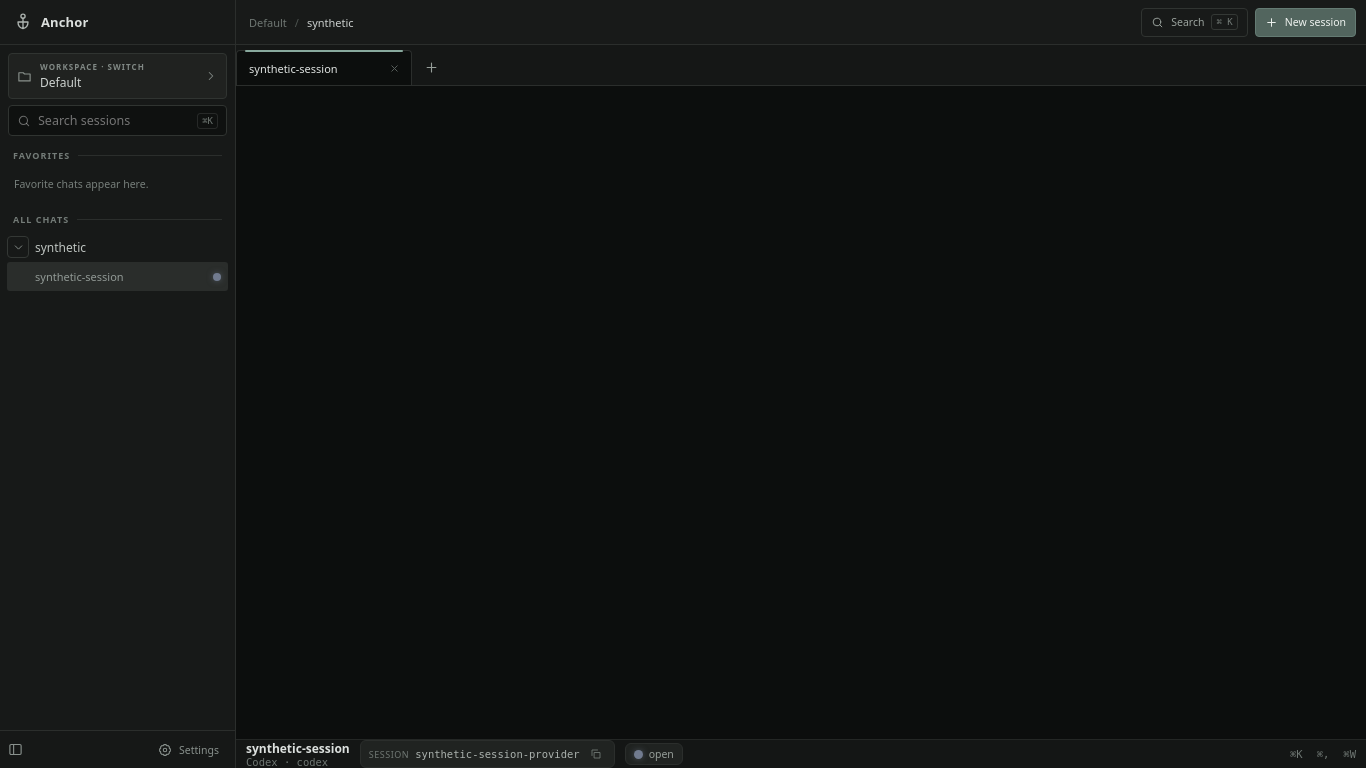
Test case: confirmClose › asks before closing an in-progress AI response and sends nothing until answered
The width and height of the screenshot is (1366, 768).
Click the button named "Close tab" at (394,68), box left=383, top=56, right=406, bottom=80
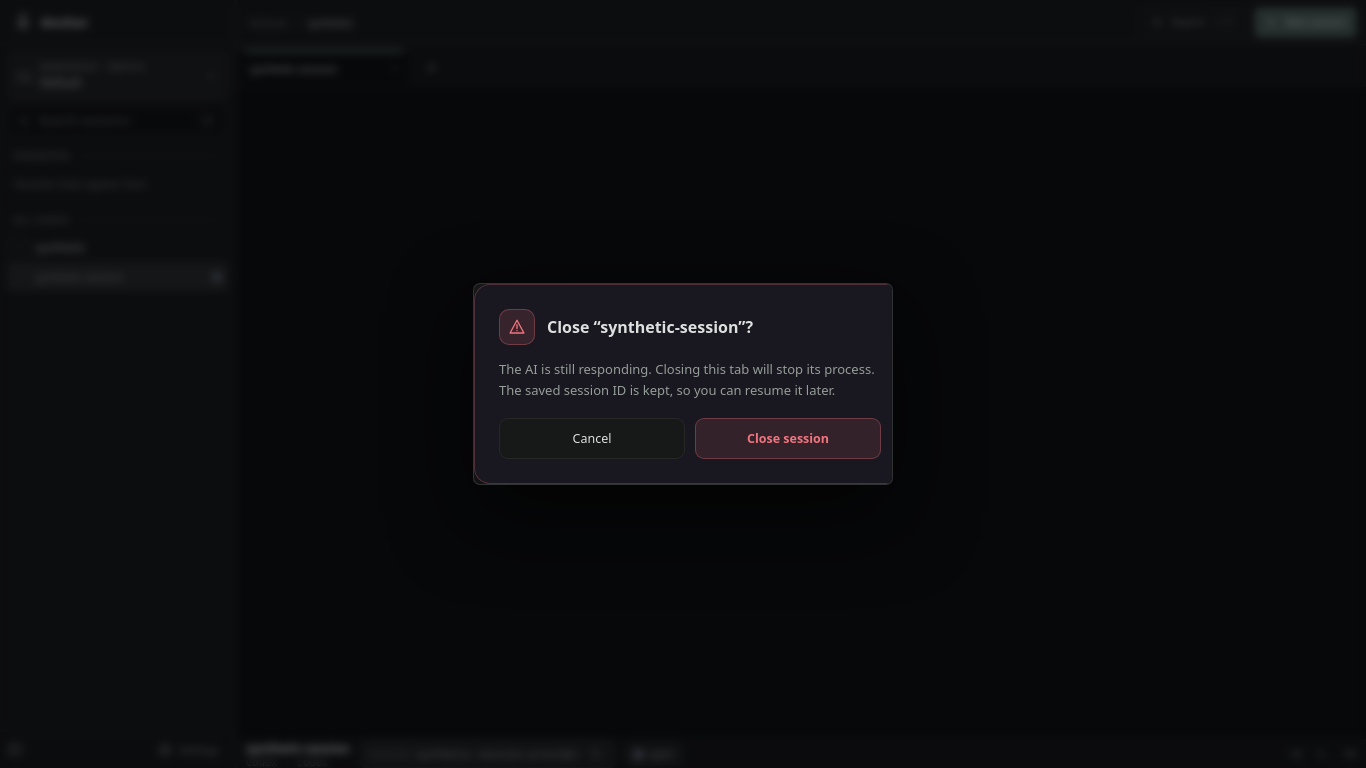
Expected: the button "Close session" is shown, left=695, top=418, right=881, bottom=459
